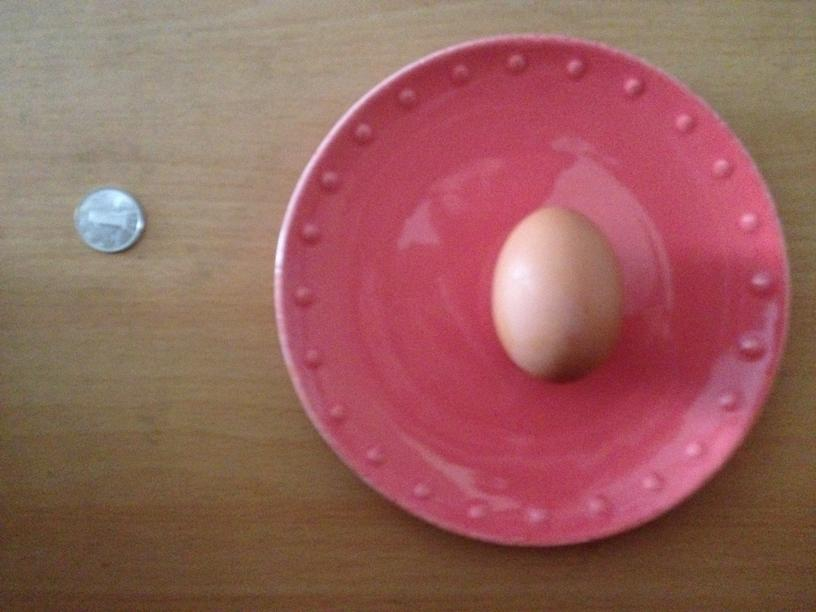coin: (72, 185, 143, 253)
egg: (492, 205, 626, 382)
